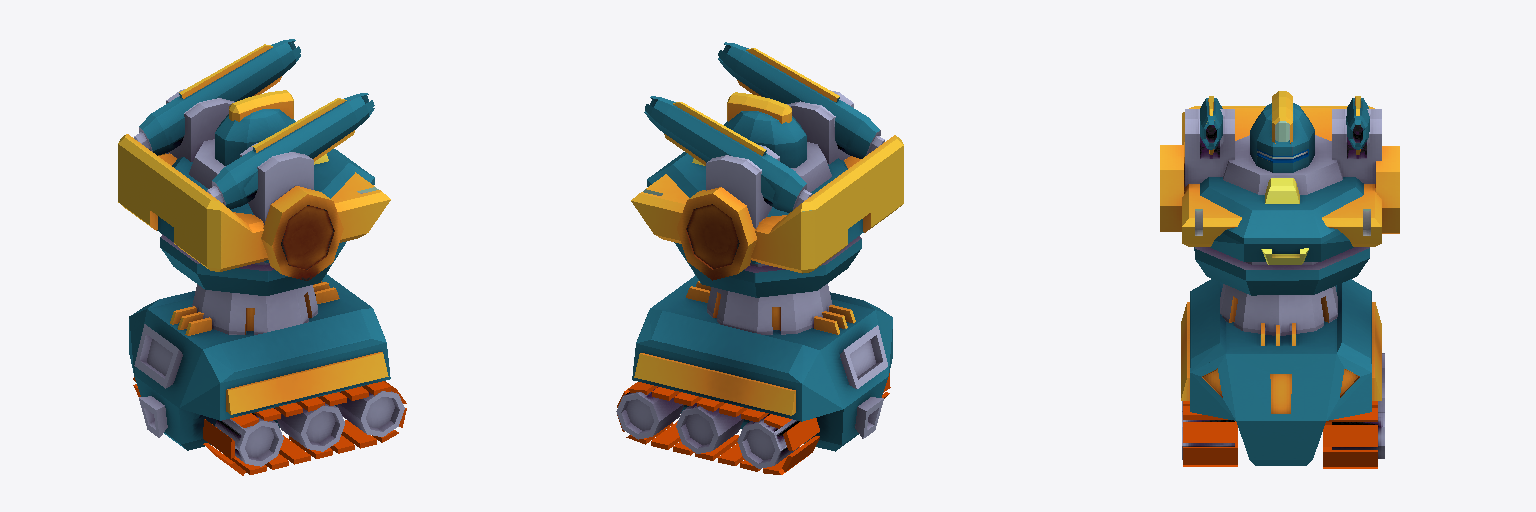
3 views of the same model, side by side, from view 1: azimuth 30°, elevation 25°; view 2: azimuth 150°, elevation 25°; view 3: azimuth 270°, elevation 25° (orthographic).
Visible parts, largest first — view 1: Object004, Object008, Object014, Box009, Box017; view 2: Object004, Object008, Object014, Box009, Box016; view 3: Object004, Object008, Box016, Box017, Object014, Box009.
Boxes of the visible parts, <box> form: Object004: <box>118,89,390,295</box>; Object008: <box>129,274,390,450</box>; Object014: <box>134,39,374,209</box>; Box009: <box>215,391,404,466</box>; Box017: <box>203,381,406,475</box>; Object004: <box>631,90,903,297</box>; Object008: <box>632,275,892,451</box>; Object014: <box>644,42,884,212</box>; Box009: <box>616,387,799,468</box>; Box016: <box>617,382,819,474</box>; Object004: <box>1160,91,1399,295</box>; Object008: <box>1181,279,1381,465</box>; Box016: <box>1323,401,1377,468</box>; Box017: <box>1183,401,1237,466</box>; Object014: <box>1200,96,1369,154</box>; Box009: <box>1182,353,1384,459</box>.
Size of the model in its own units: 54.79 by 82.72 by 52.49.
2 materials, 1 textured.